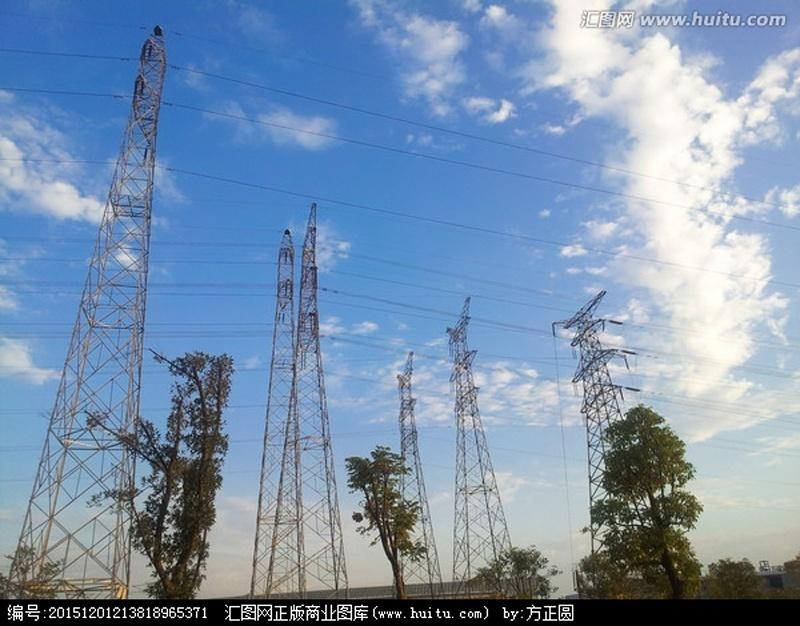power_tower: (11, 22, 154, 591), (260, 205, 351, 601), (436, 308, 531, 593), (541, 292, 642, 440)
